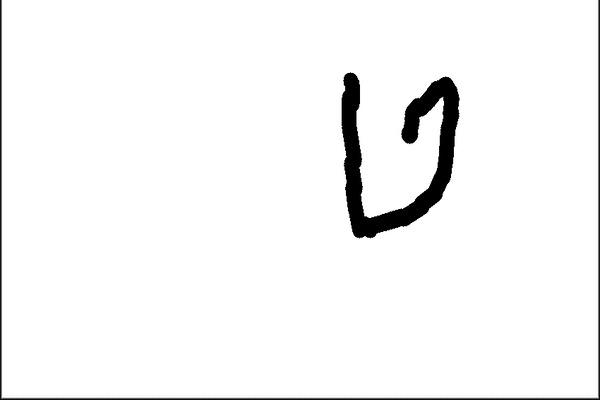U: (331, 55, 467, 238)
